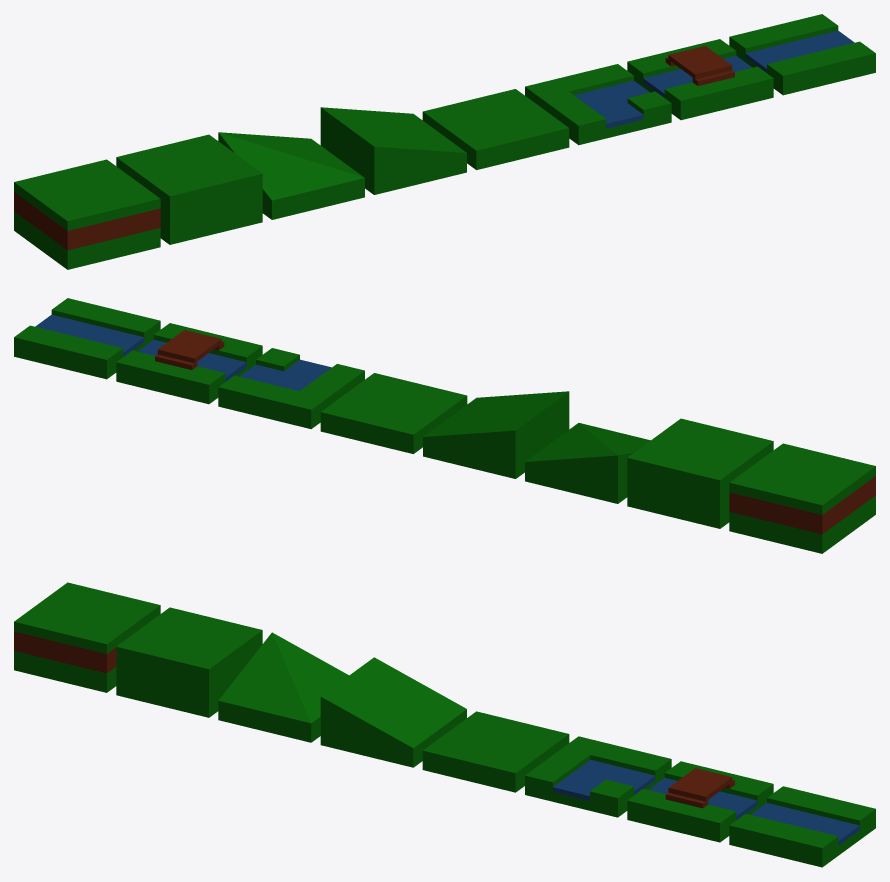
The picture shows the model from 3 angles, top to bottom: view 1: azimuth 30°, elevation 25°; view 2: azimuth 150°, elevation 25°; view 3: azimuth 330°, elevation 25°; orthographic projection.
Parts seen in each view (by area): view 1: Box1010, Box1008, Box1007, Box1009, Box1003, Box1004, Box1006, Box1005; view 2: Box1010, Box1008, Box1007, Box1003, Box1004, Box1006, Box1005, Box1009; view 3: Box1008, Box1010, Box1007, Box1009, Box1003, Box1005, Box1004, Box1006.
Part boxes in pixels (<box>): Box1010: <box>14,159,160,269</box>; Box1008: <box>116,134,262,244</box>; Box1007: <box>320,107,466,194</box>; Box1009: <box>218,132,364,219</box>; Box1003: <box>729,14,875,95</box>; Box1004: <box>422,89,569,169</box>; Box1006: <box>627,39,773,120</box>; Box1005: <box>525,64,671,145</box>; Box1010: <box>729,443,875,553</box>; Box1008: <box>627,418,773,528</box>; Box1007: <box>423,391,569,478</box>; Box1003: <box>14,298,160,379</box>; Box1004: <box>320,373,467,453</box>; Box1006: <box>116,323,262,404</box>; Box1005: <box>218,348,364,429</box>; Box1009: <box>525,423,650,503</box>; Box1008: <box>116,607,262,717</box>; Box1010: <box>14,582,160,692</box>; Box1007: <box>320,657,466,767</box>; Box1009: <box>218,632,348,742</box>; Box1003: <box>729,786,875,867</box>; Box1005: <box>525,736,671,817</box>; Box1004: <box>422,711,569,792</box>; Box1006: <box>627,761,773,842</box>.
Size of the model in its own units: 8701 by 1000 by 500.
